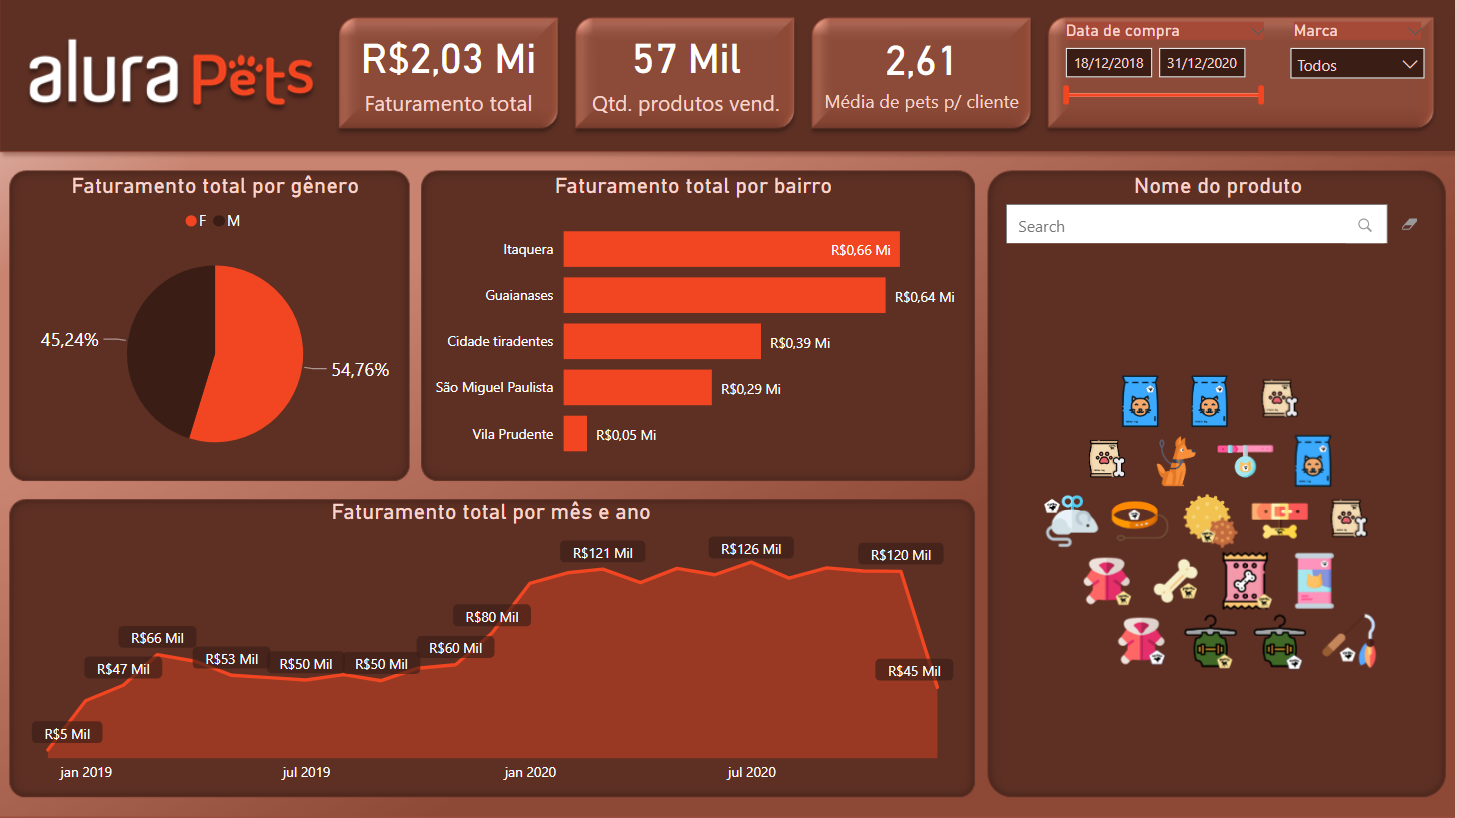

The dashboard page shown, as its layout file describes it:
{"tool":"powerbi","page":{"name":"Página 1","canvas":[1280,720],"ordinal":0},"visuals":[{"type":"card","fields":{"Values":["vendas.Faturamento total"]},"box":[297.3,15.2,195.6,92.5],"z":0},{"type":"card","fields":{"Values":["Avg(Clientes.Pets)"]},"box":[715.8,15.2,191.1,92.5],"z":1000},{"type":"card","fields":{"Values":["Sum(vendas.Quantidade)"]},"box":[514.1,15.2,179,92.5],"z":2000},{"type":"pieChart","title":"Faturamento total por gênero","fields":{"Y":["vendas.Faturamento total"],"Category":["Clientes.Gênero"]},"box":[15.2,153.2,350.3,266.9],"z":3000},{"type":"clusteredBarChart","title":"Faturamento total por bairro","fields":{"Category":["Clientes.Bairro"],"Y":["vendas.Faturamento total"]},"box":[370,153.2,480.8,266.9],"z":4000},{"type":"areaChart","title":"Faturamento total por mês e ano","fields":{"Category":["vendas.Data de compra.Variation.Hierarquia de datas.Ano","vendas.Data de compra.Variation.Hierarquia de datas.Trimestre","vendas.Data de compra.Variation.Hierarquia de datas.Mês","vendas.Data de compra.Variation.Hierarquia de datas.Dia"],"Y":["vendas.Faturamento total"]},"box":[15.2,439.8,835.6,257.8],"z":5000},{"type":"ImageGrid_FC5183B9_926C_45E0_B5F7_0CE9EAF1DA9B","fields":{"ImageURLHQ":["Produtos.Url img"]},"box":[869,219.9,392.8,477.7],"z":6000},{"type":"textFilter25A4896A83E0487089E2B90C9AE57C8A","title":"Nome do produto","fields":{"field":["Produtos.Nome produto"]},"box":[879.6,153.2,383.7,66.7],"z":7000},{"type":"slicer","fields":{"Values":["Produtos.Marca"]},"box":[1125.3,15.2,138,92.5],"z":8000},{"type":"slicer","fields":{"Values":["vendas.Data de compra"]},"box":[925.1,15.2,200.2,107.7],"z":9000}]}

Visuals, with their boxes in screenshot pixels (x1, y1, x2, y2), scaled from the page's 1280x720 canvas onto the 1457x818 screenshot:
card - vendas.Faturamento total: 338,17,561,122
card - Avg(Clientes.Pets): 815,17,1032,122
card - Sum(vendas.Quantidade): 585,17,789,122
"Faturamento total por gênero" pieChart: 17,174,416,477
"Faturamento total por bairro" clusteredBarChart: 421,174,968,477
"Faturamento total por mês e ano" areaChart: 17,500,968,793
ImageGrid_FC5183B9_926C_45E0_B5F7_0CE9EAF1DA9B - Produtos.Url img: 989,250,1436,793
"Nome do produto" textFilter25A4896A83E0487089E2B90C9AE57C8A: 1001,174,1438,250
slicer - Produtos.Marca: 1281,17,1438,122
slicer - vendas.Data de compra: 1053,17,1281,140
